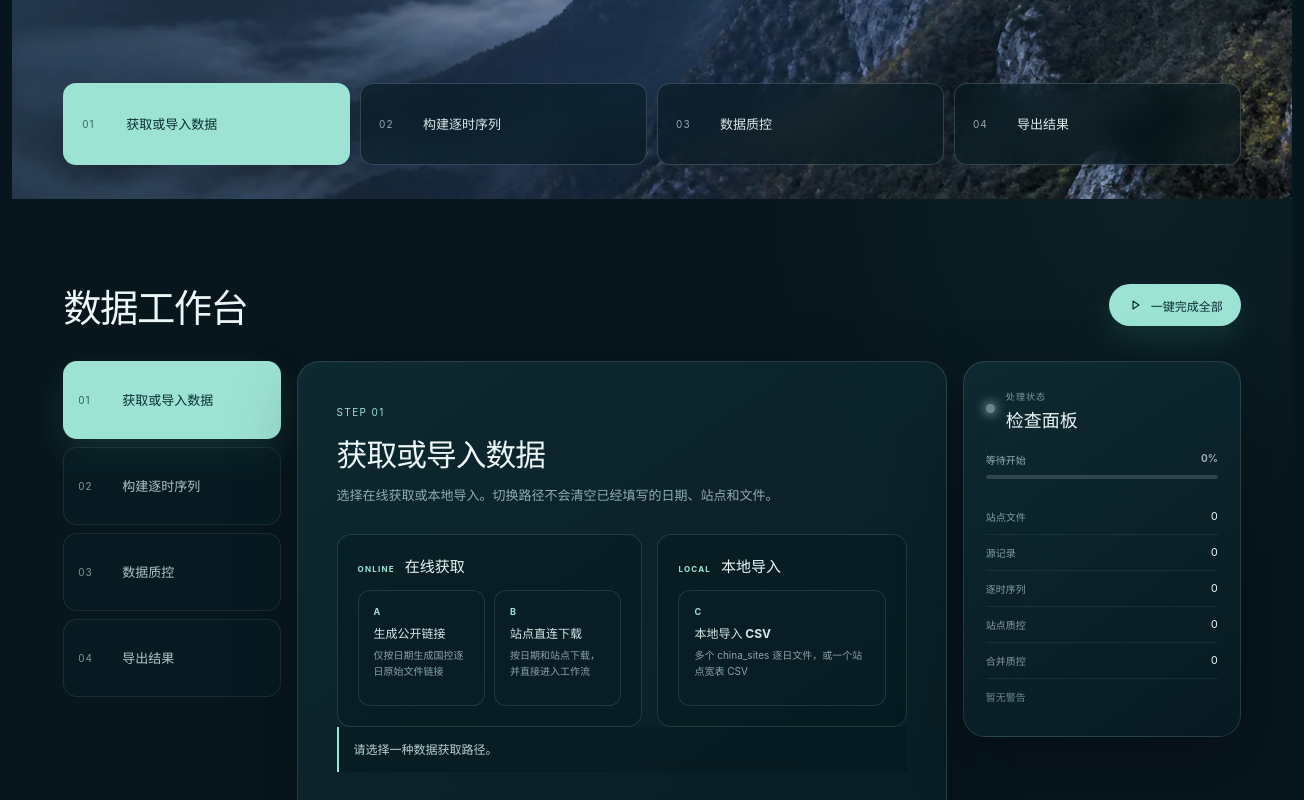
Test: App four-stage shell › renders exactly four semantic stages and switches the active panel
The image size is (1304, 800).
(page scrolled)
Click the button "01 获取或导入数据" next to "STEP 0": (172, 400) [63, 361, 281, 439]
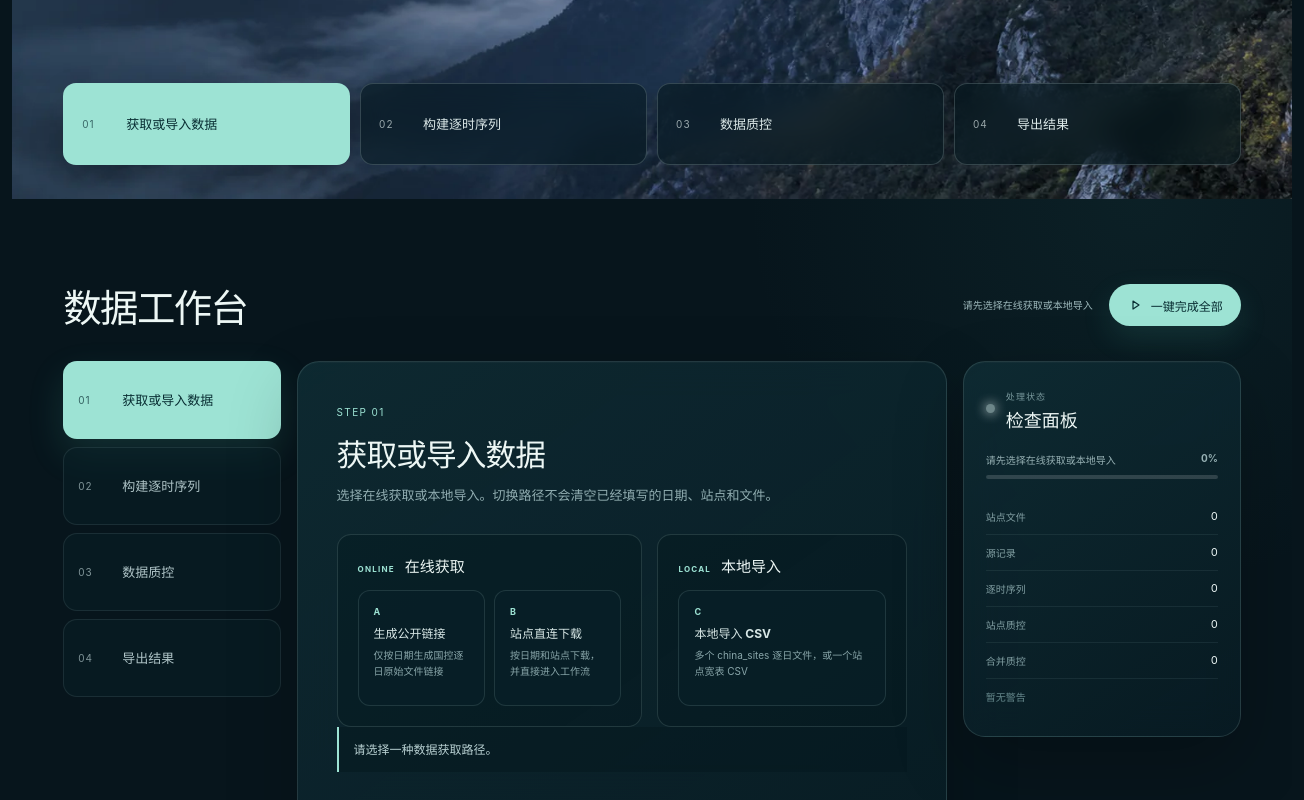
Expected: the heading "获取或导入数据" is shown, [337, 436, 545, 473]
Click the button "02 构建逐时序列" next to "选择在线获取或本地导入。切换路径不会清空已经填写的日期、站点和文件。": (172, 486) [63, 447, 281, 525]
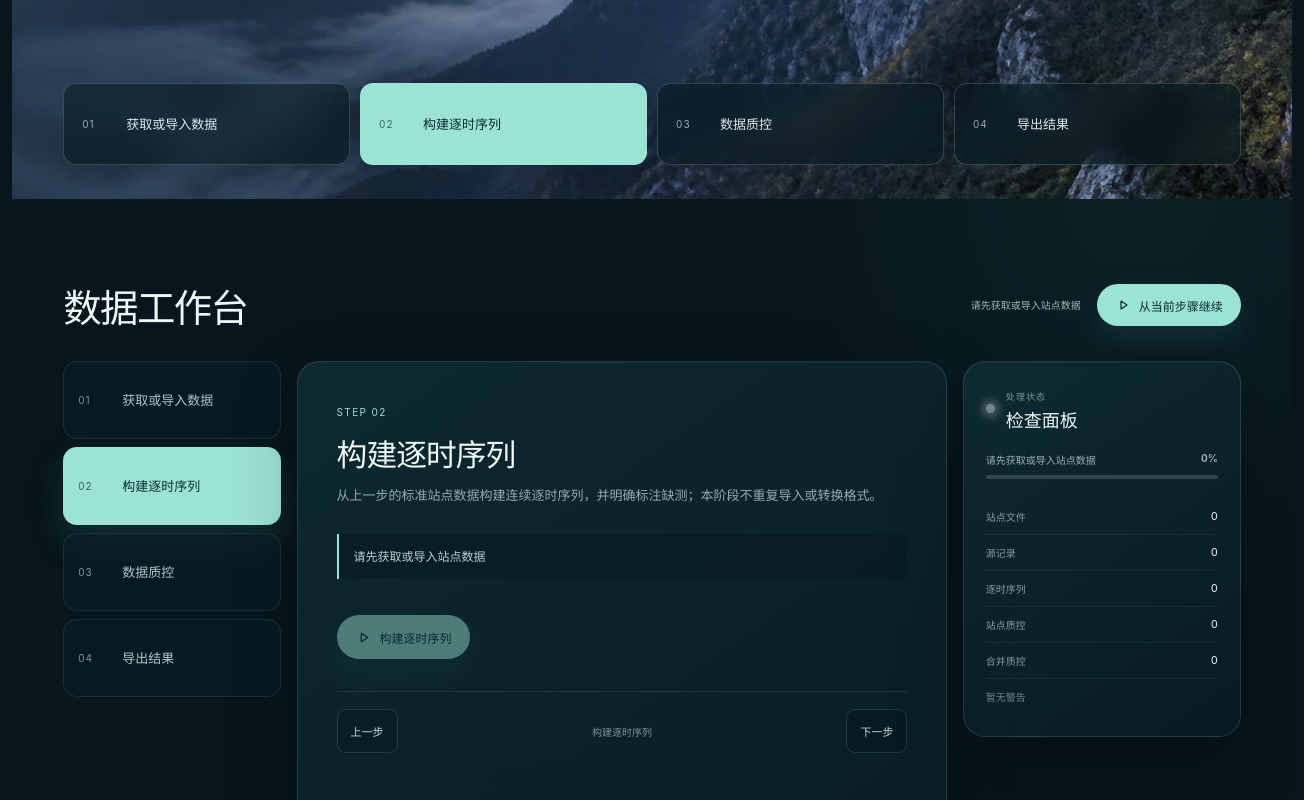
Now the heading "构建逐时序列" is shown, box [337, 436, 515, 473]
Click the button "03 数据质控" in the row of "源记录": (172, 572) [63, 533, 281, 611]
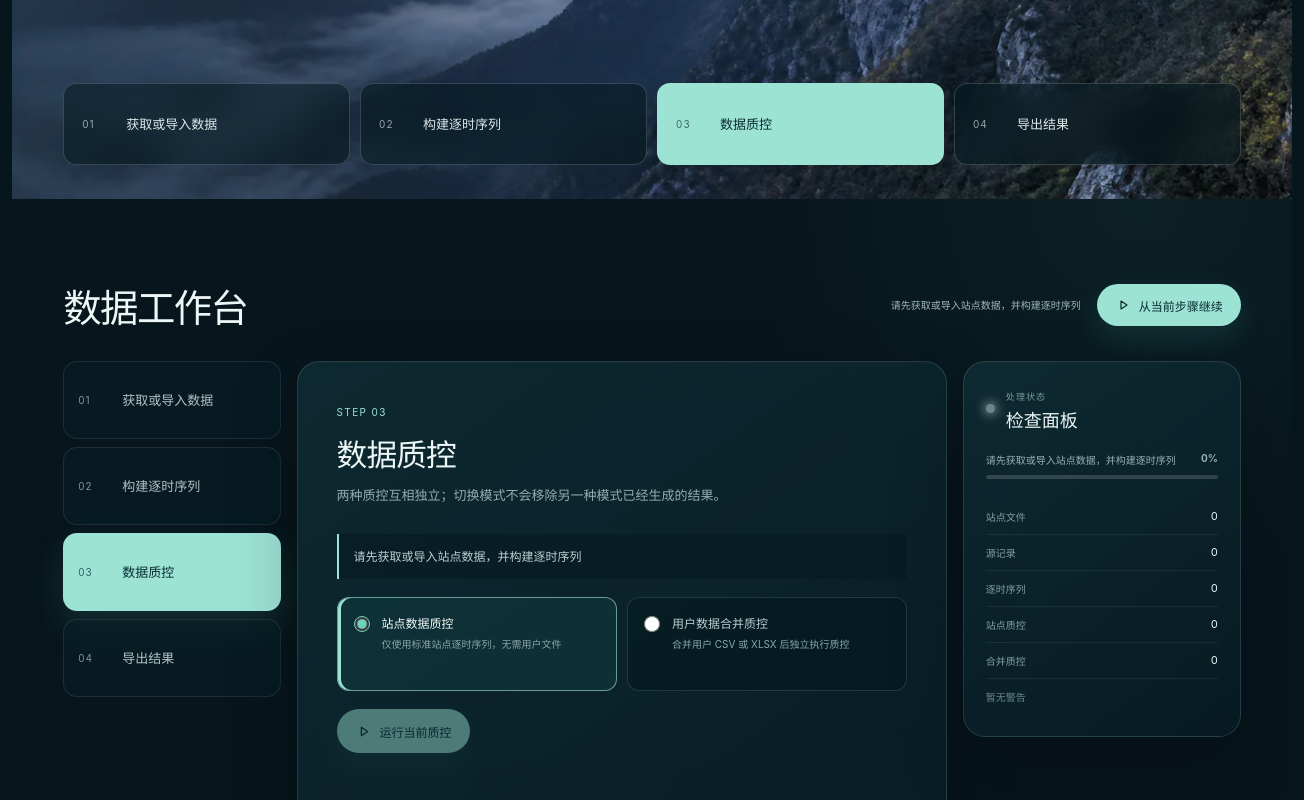
Now the heading "数据质控" is shown, box [337, 436, 456, 473]
Click the button "04 导出结果" next to "站点数据质控": (172, 658) [63, 619, 281, 697]
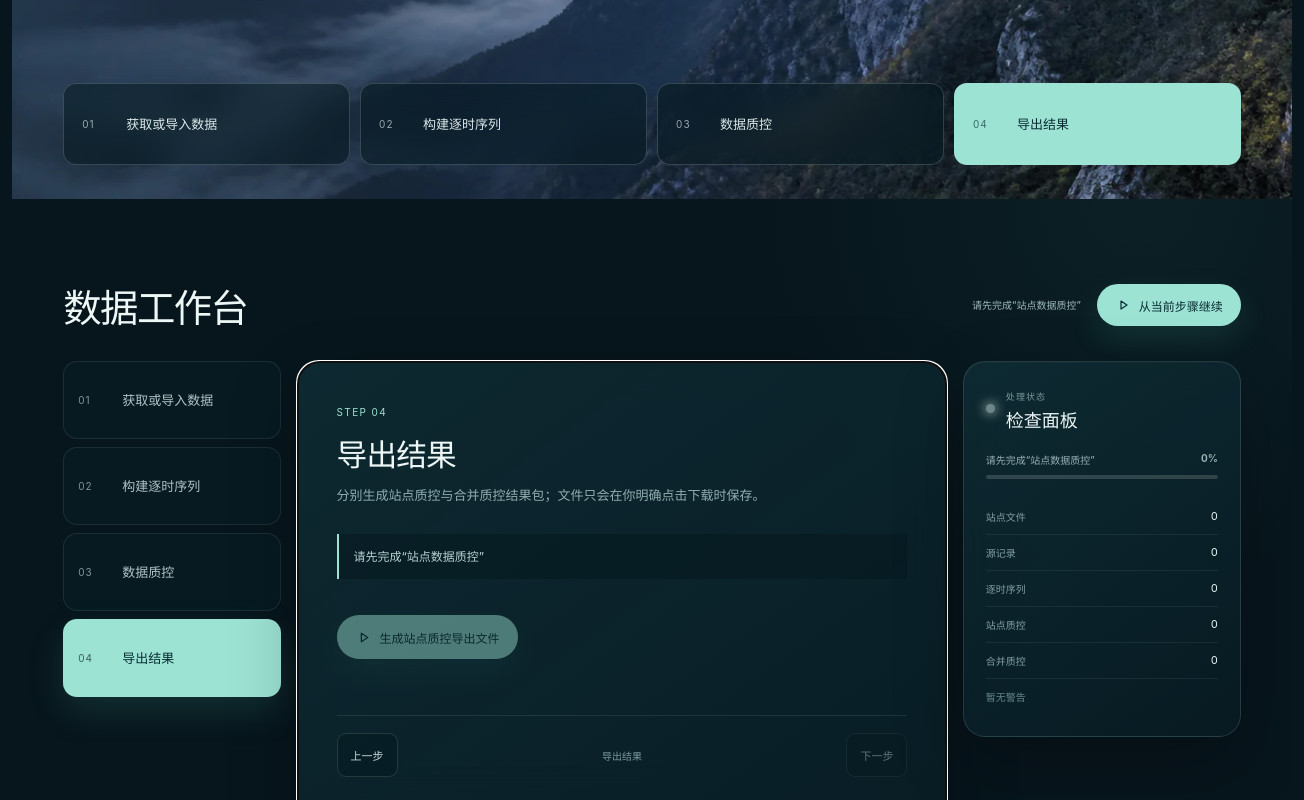
Now the heading "导出结果" is shown, box [337, 436, 456, 473]
